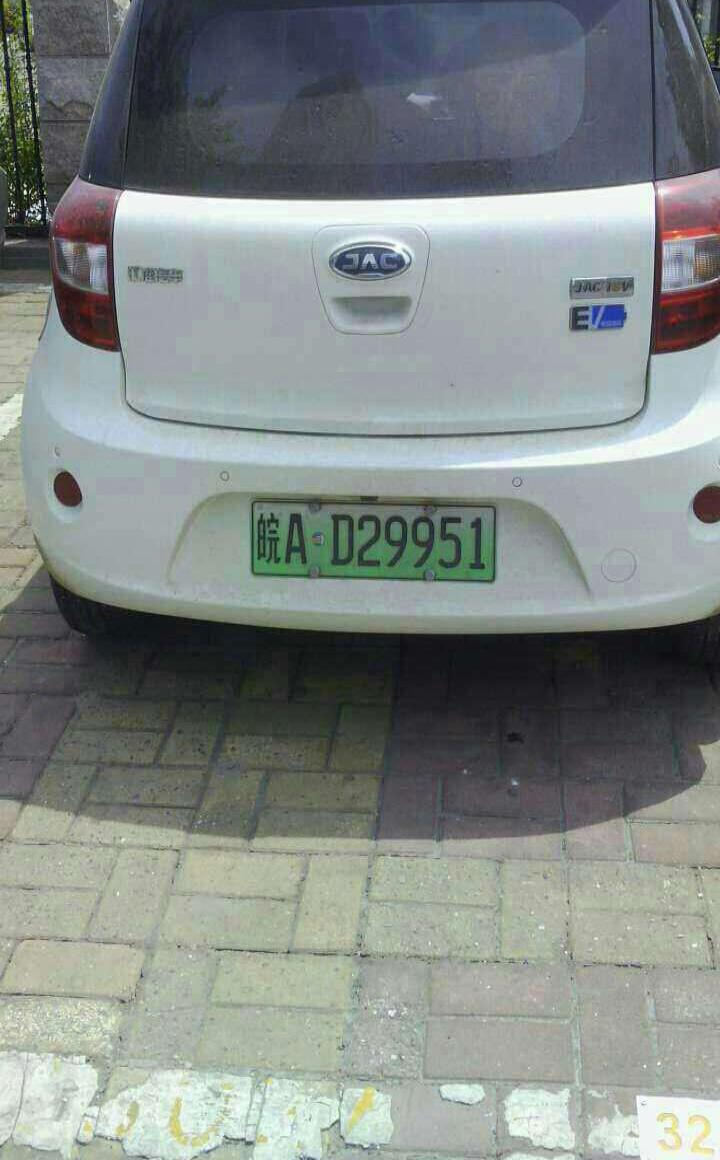car_id: (251, 500, 499, 577)
